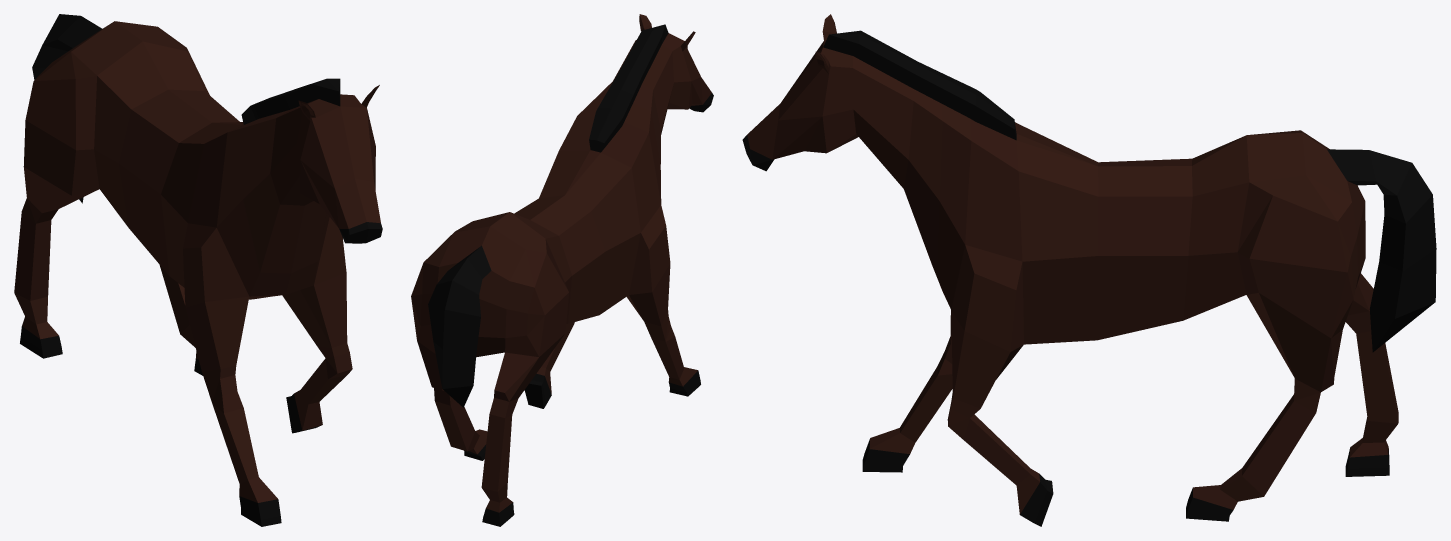
File: Horse_000020.obj
3 views of the same model, side by side, from view 1: azimuth 30°, elevation 25°; view 2: azimuth 150°, elevation 25°; view 3: azimuth 270°, elevation 25° (orthographic). The views are drawn at different scales.
Visible parts, largest first — view 1: Horse_Cylinder; view 2: Horse_Cylinder; view 3: Horse_Cylinder.
Part boxes in pixels (bbox=[...]): Horse_Cylinder: bbox=[14, 14, 382, 526]; Horse_Cylinder: bbox=[411, 14, 713, 526]; Horse_Cylinder: bbox=[742, 14, 1436, 526].
Size of the model in its own units: 2.56 by 6.68 by 9.12.
